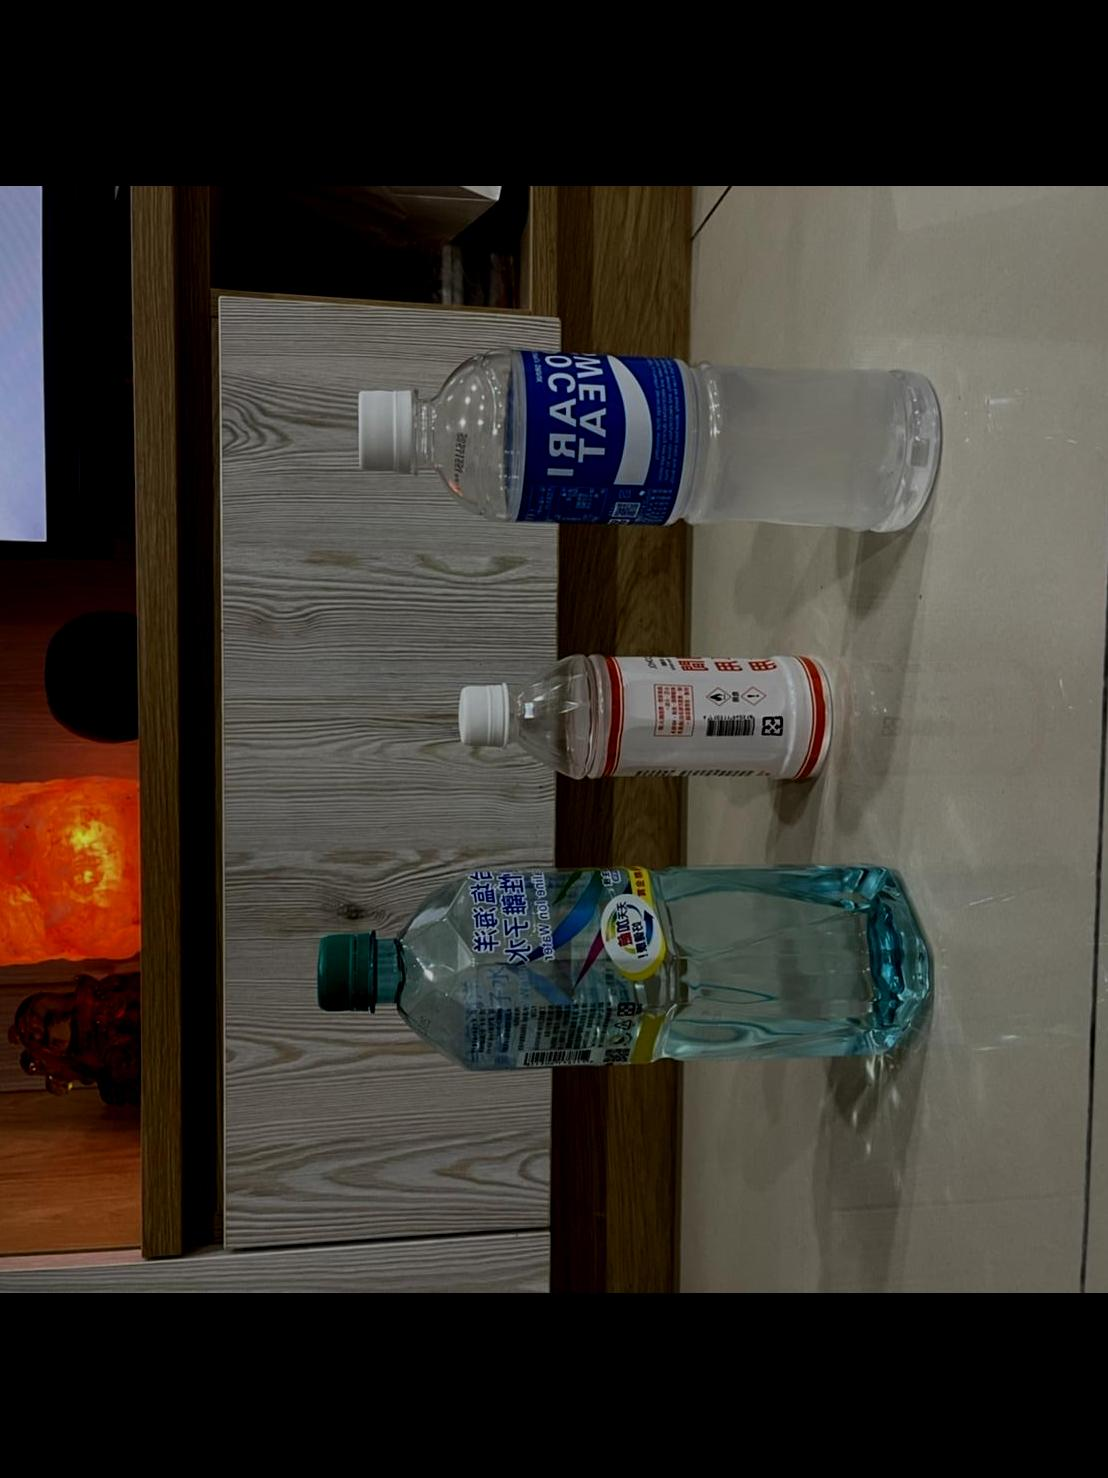bottle: (307, 848, 942, 1092), (351, 326, 942, 543), (450, 651, 833, 783)
